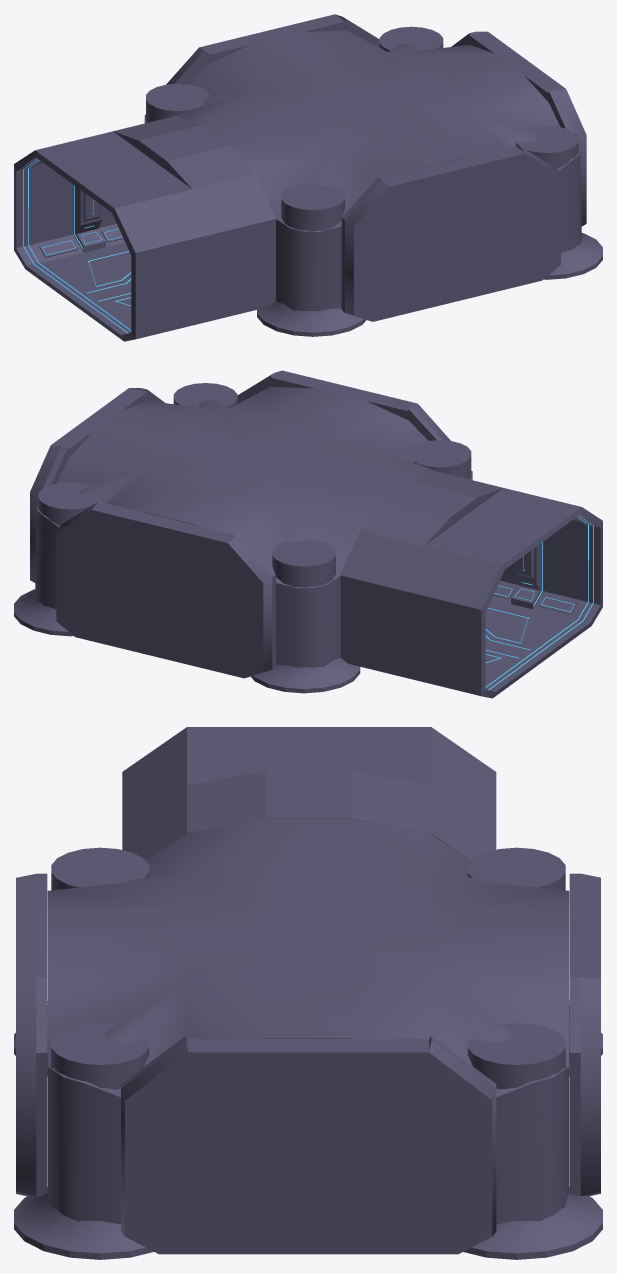
The model's file is SceneMainMenuBase.fbx.
3 renders of one model, top to bottom at view 1: azimuth 30°, elevation 25°; view 2: azimuth 150°, elevation 25°; view 3: azimuth 270°, elevation 25°, orthographic. The views are drawn at different scales.
Visible parts, largest first — view 1: Central; view 2: Central; view 3: Central.
Part boxes in pixels (<box>): Central: <box>14,14,602,341</box>; Central: <box>14,370,602,698</box>; Central: <box>14,727,602,1259</box>.
Bounding box in the file's own units: 44928 × 13188 × 32789.
